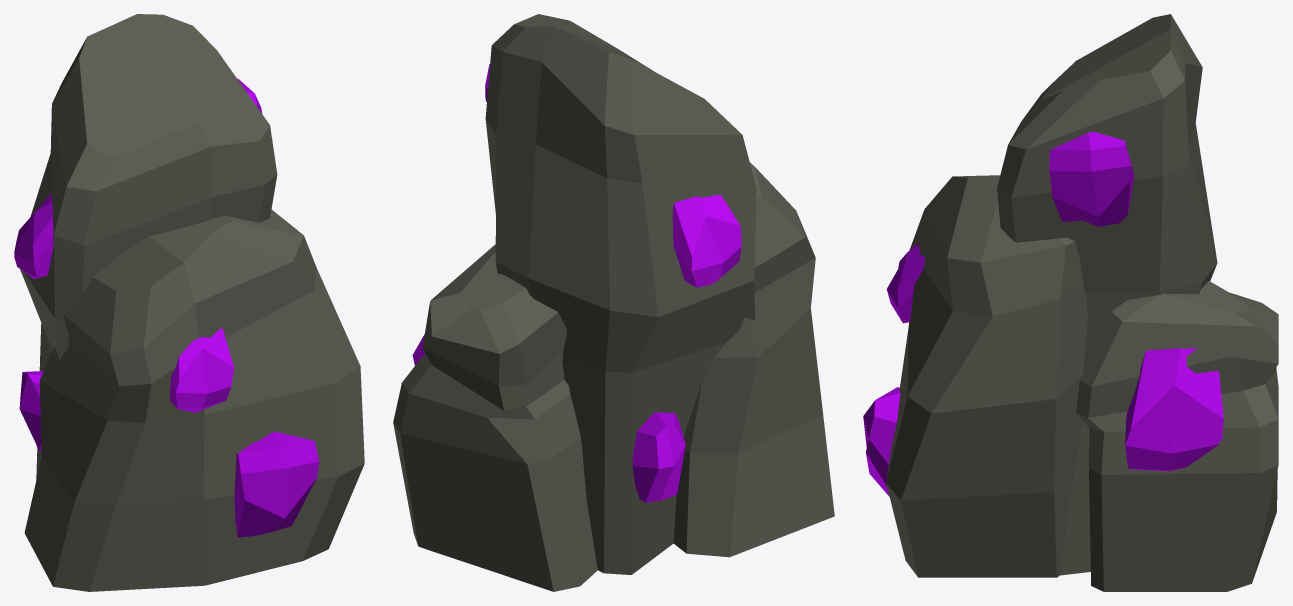
File: Ore1_Purple.fbx
The picture shows the model from 3 angles, left to right: view 1: azimuth 30°, elevation 25°; view 2: azimuth 150°, elevation 25°; view 3: azimuth 270°, elevation 25°; orthographic projection. The views are drawn at different scales.
Visible parts, largest first — view 1: Ore1_Purple, Purple; view 2: Ore1_Purple, Purple; view 3: Ore1_Purple, Purple.
Boxes of the visible parts, left/top/right/bottom form: Ore1_Purple: left=20, top=14, right=364, bottom=591; Purple: left=14, top=78, right=319, bottom=537; Ore1_Purple: left=393, top=14, right=834, bottom=591; Purple: left=412, top=64, right=741, bottom=502; Ore1_Purple: left=886, top=14, right=1278, bottom=591; Purple: left=863, top=132, right=1223, bottom=496.
Bounding box in the file's own units: 128 × 199 × 147.
